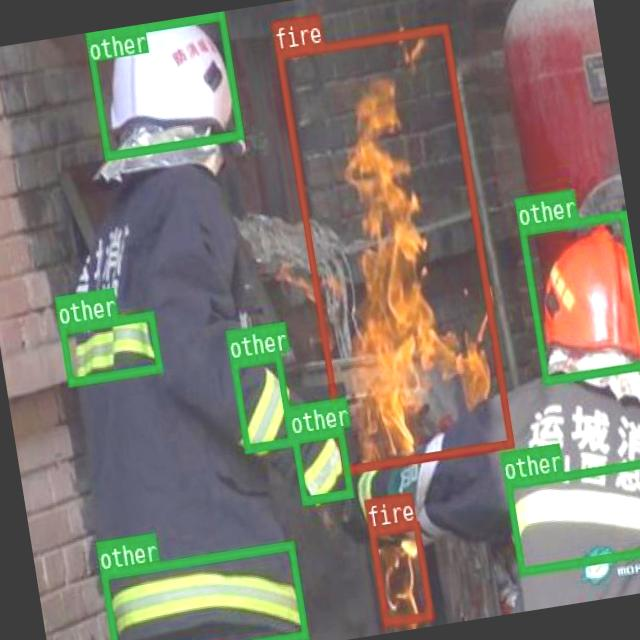fire: (276, 22, 514, 472), (368, 520, 432, 626)
